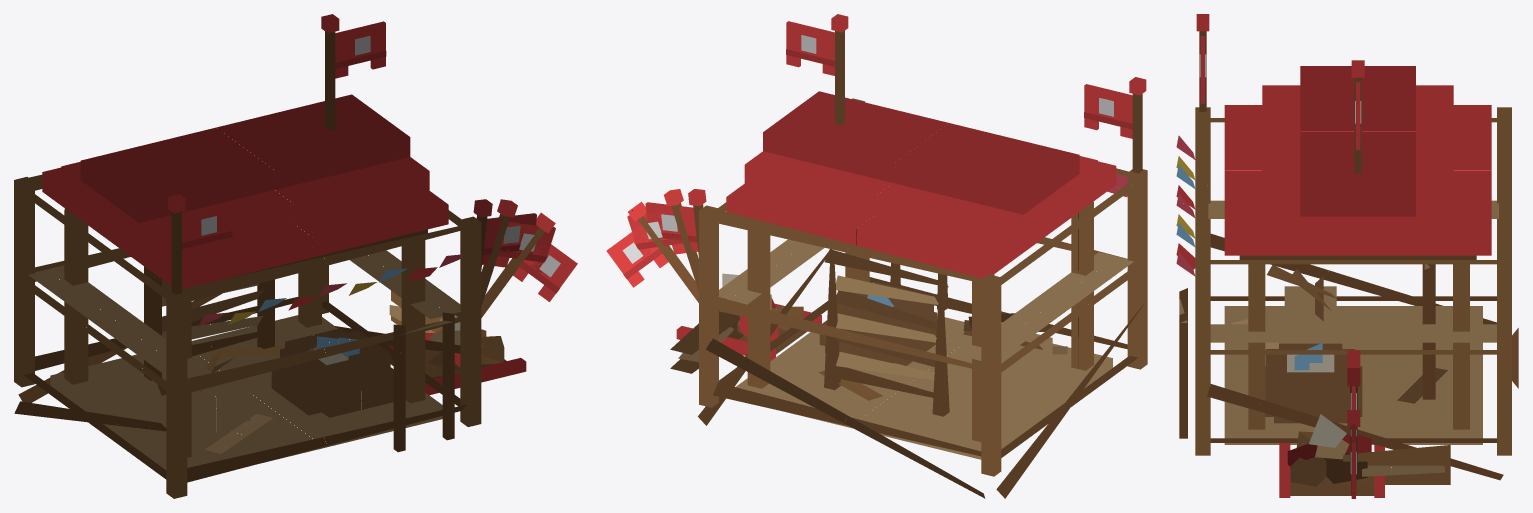
The model's file is robin-research_lod1.glb.
The picture shows the model from 3 angles, left to right: view 1: azimuth 30°, elevation 25°; view 2: azimuth 150°, elevation 25°; view 3: azimuth 270°, elevation 25°; orthographic projection. The views are drawn at different scales.
Parts seen in each view (by area): view 1: scaffold-mesh, built-mesh, dismantle-50-mesh, dismantle-75-mesh, dismantle-25-mesh, banner, scaffold-banner, dismantle-25-banner, flag-pole, dismantle-50-banner, dismantle-75-banner, dismantle-25-flag-pole (+2 smaller); view 2: built-mesh, scaffold-mesh, dismantle-50-mesh, dismantle-75-mesh, dismantle-25-mesh, banner, scaffold-banner, dismantle-25-banner, dismantle-75-banner, flag-pole, scaffold-flag-pole, dismantle-25-flag-pole (+2 smaller); view 3: built-mesh, scaffold-mesh, dismantle-50-mesh, dismantle-25-mesh, dismantle-75-mesh, flag-pole, scaffold-flag-pole, scaffold-banner, banner.
Part boxes in pixels (x1,y1,x2,y2): scaffold-mesh: (14,174,481,498); built-mesh: (42,94,448,417); dismantle-50-mesh: (50,273,526,467); dismantle-75-mesh: (64,210,526,438); dismantle-25-mesh: (144,293,526,453); banner: (335,21,386,78); scaffold-banner: (182,201,232,258); dismantle-25-banner: (513,244,577,301); flag-pole: (321,14,339,130); dismantle-50-banner: (494,222,555,272); dismantle-75-banner: (482,213,536,264); dismantle-25-flag-pole: (481,212,555,317); built-mesh: (726,91,1116,459); scaffold-mesh: (670,98,1147,498); dismantle-50-mesh: (676,255,1112,448); dismantle-75-mesh: (676,238,1087,441); dismantle-25-mesh: (677,273,1067,441); banner: (786,21,834,75); scaffold-banner: (1084,84,1132,138); dismantle-25-banner: (606,225,668,287); dismantle-75-banner: (645,202,698,251); flag-pole: (831,14,848,125); scaffold-flag-pole: (1129,77,1146,173); dismantle-25-flag-pole: (628,201,698,302); built-mesh: (1224,66,1491,398); scaffold-mesh: (1176,107,1518,484); dismantle-50-mesh: (1224,265,1482,497); dismantle-25-mesh: (1231,319,1447,497); dismantle-75-mesh: (1279,264,1435,497); flag-pole: (1351,60,1364,173); scaffold-flag-pole: (1196,14,1209,111); scaffold-banner: (1199,36,1206,103); banner: (1355,82,1361,149).
Size of the model in its own units: 2.59 by 1.97 by 1.59.
